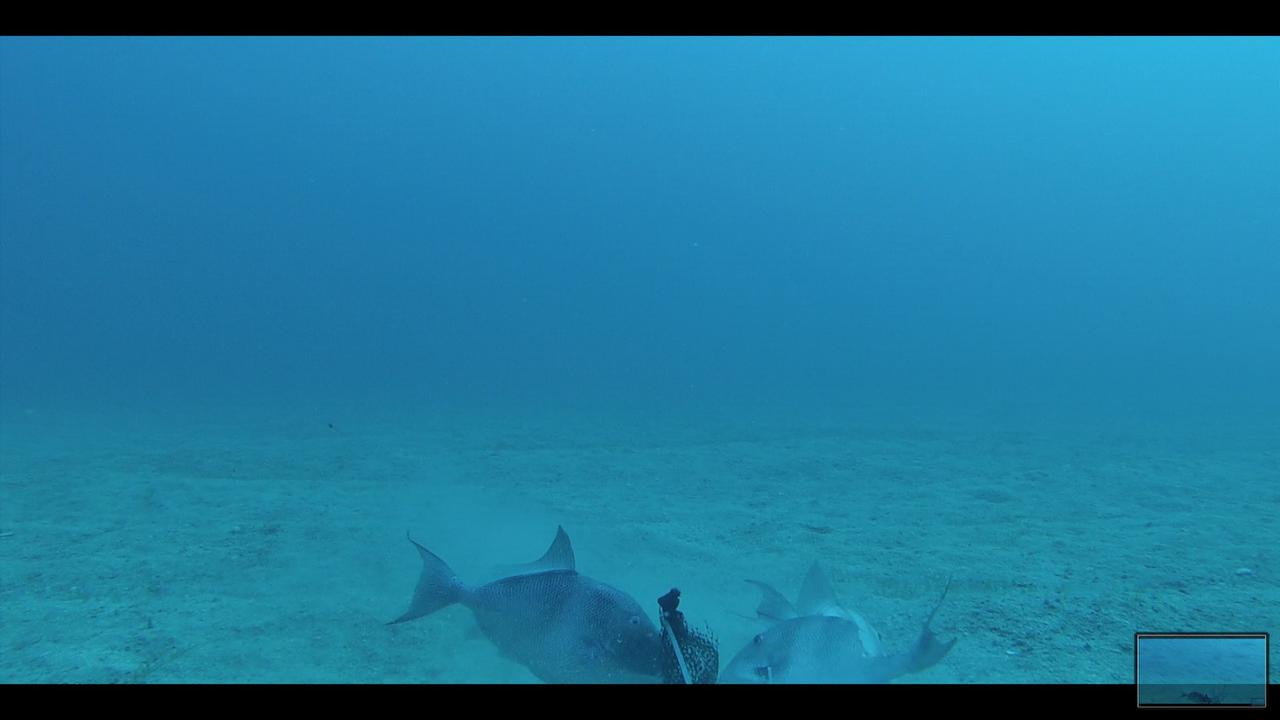balistes: (383, 514, 667, 682), (711, 556, 958, 682)
